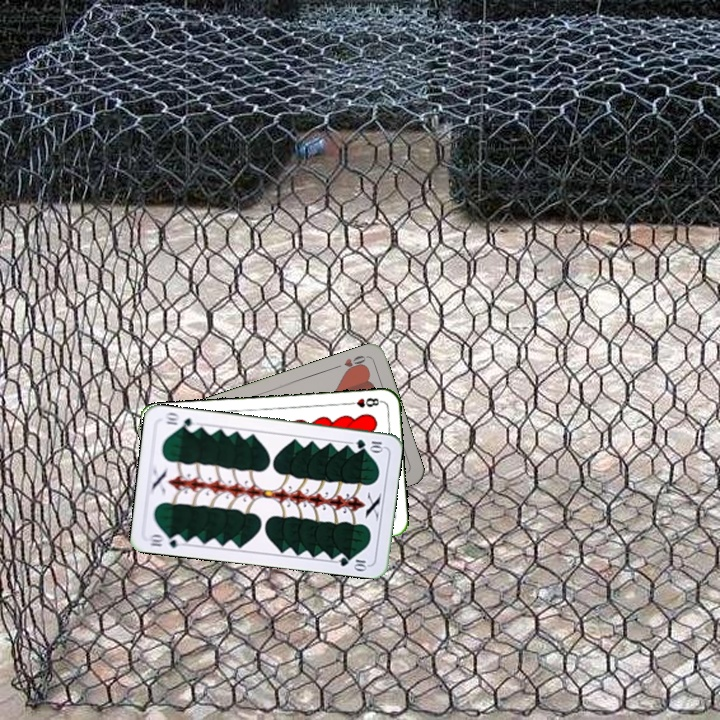G10: (145, 530, 186, 550), (352, 435, 386, 453)
H8: (344, 394, 384, 410)
HO: (330, 351, 369, 375)
